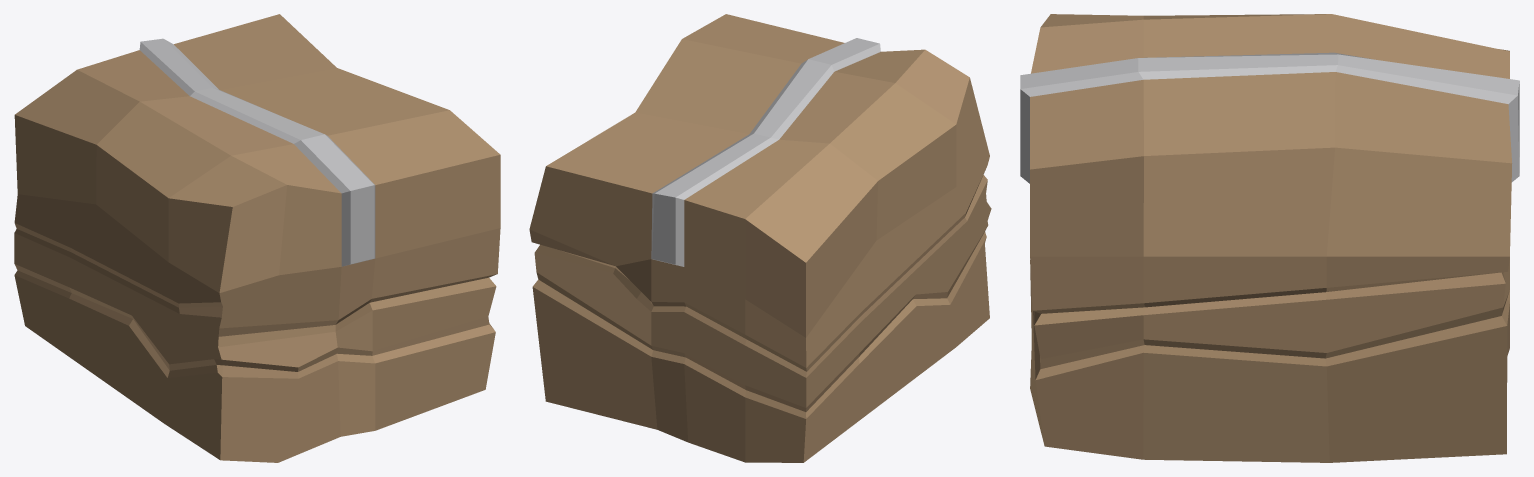
The model's file is BORKEN_BIG_Cardboard_BOX.fbx.
The picture shows the model from 3 angles, left to right: view 1: azimuth 30°, elevation 25°; view 2: azimuth 150°, elevation 25°; view 3: azimuth 270°, elevation 25°; orthographic projection. The views are drawn at different scales.
Visible parts, largest first — view 1: Cube.003; view 2: Cube.003; view 3: Cube.003.
Part boxes in pixels (x1,y1,x2,y2): Cube.003: [14, 14, 500, 462]; Cube.003: [529, 14, 991, 462]; Cube.003: [1020, 14, 1519, 462].
Bounding box in the file's own units: 123 × 156 × 116.
Materials: 1 (1 with a texture image).
